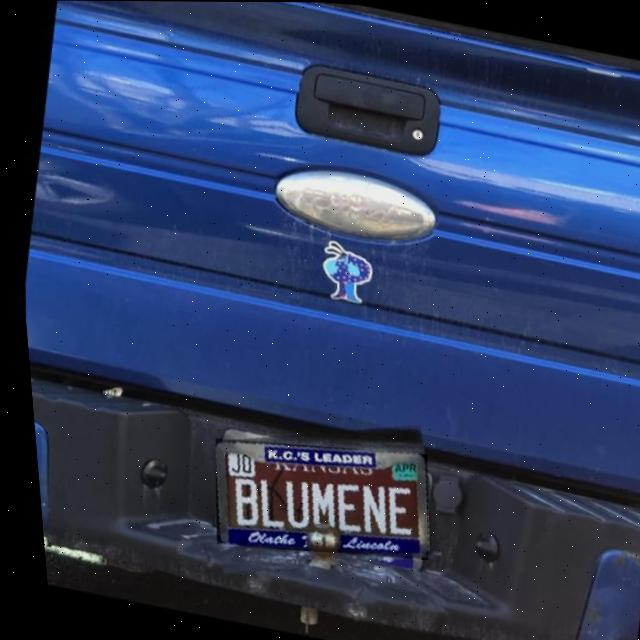LicensePlate: (208, 441, 418, 556)
